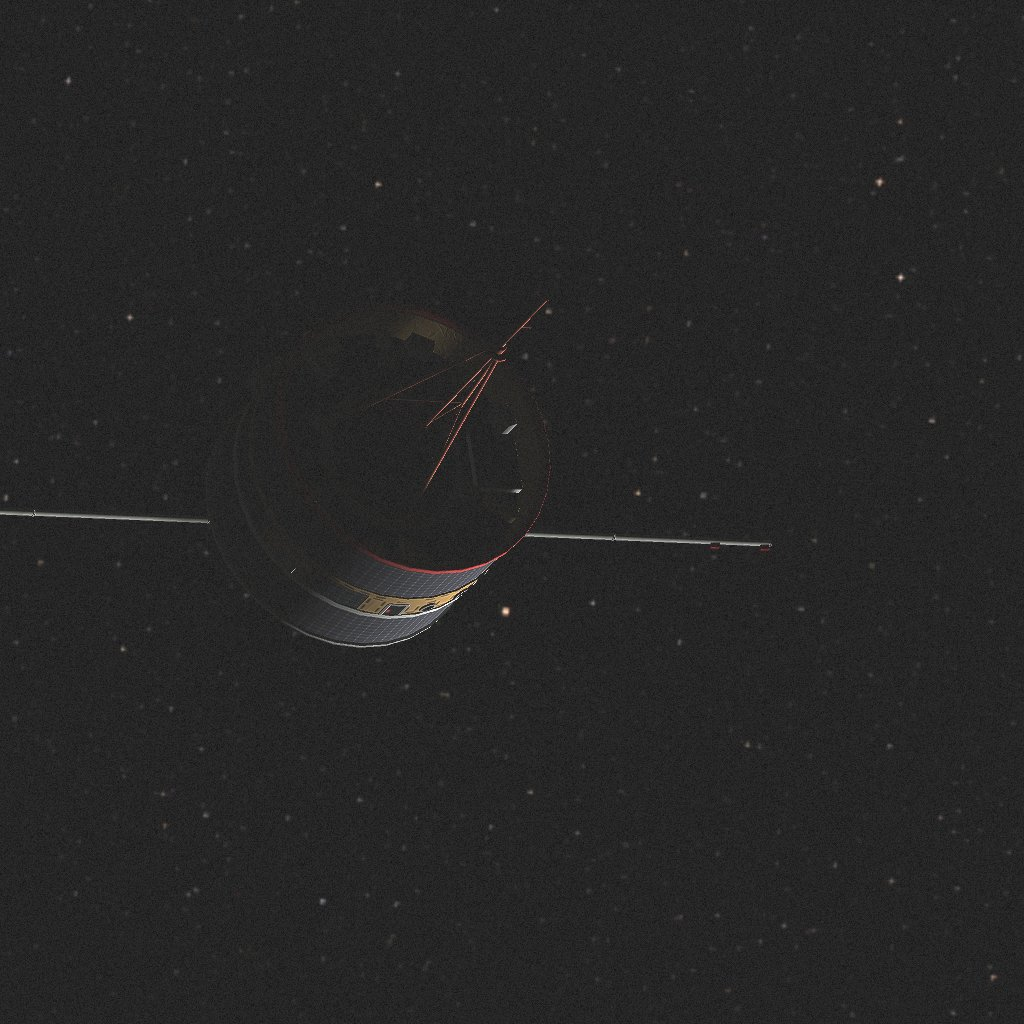double_star: (0, 293, 772, 647)
